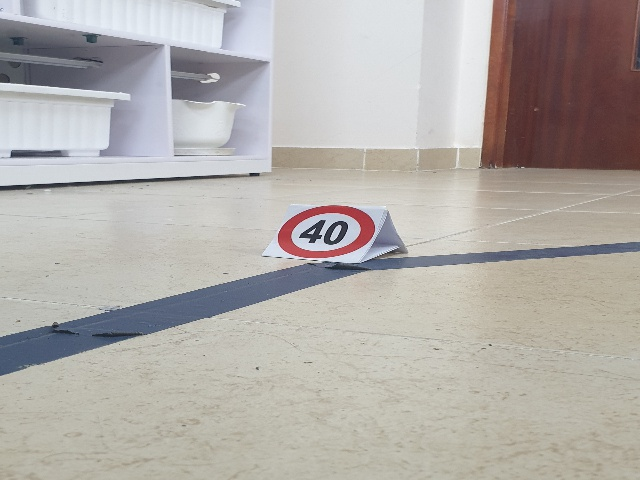Limit 40: (277, 206, 376, 257)
